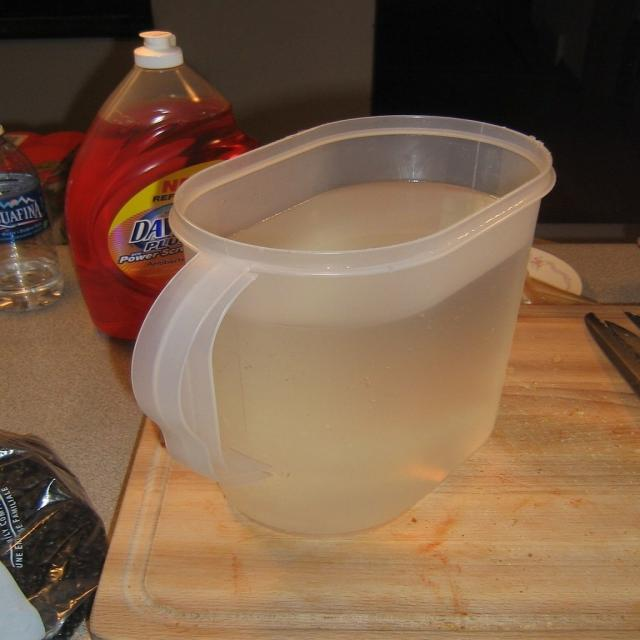Plastics: (0, 28, 577, 553)
